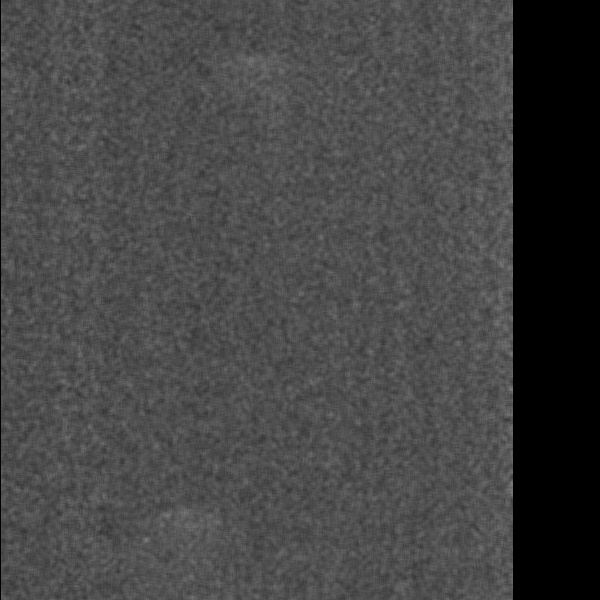spark: (231, 51, 280, 86)
